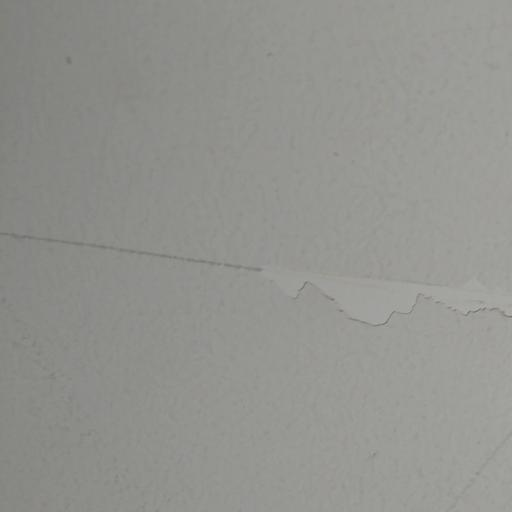peeling: (244, 250, 512, 356)
